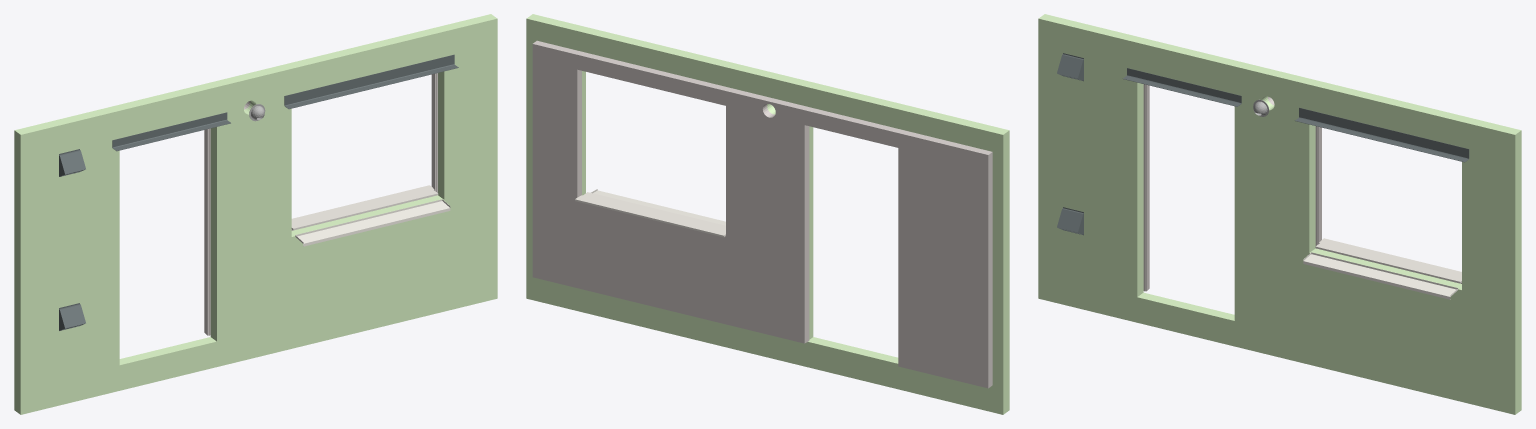
3 views of the same model, side by side, from view 1: azimuth 30°, elevation 25°; view 2: azimuth 150°, elevation 25°; view 3: azimuth 330°, elevation 25° (orthographic).
Parts seen in each view (by area): view 1: [8691881]21_isolatie 131mm, [8691899]Merk B_L18 90x116x3mm, [8691879]21_prefab betonwand 90mm, [8691901]Merk B_Waterslag, [8691902]Merk B_Ventserbank, [8691900]Merk A_L8 90x90x3mm, [8691903]57_Muurdoorvoer WTW, [8691904]57_Muurdoorvoer WTW; view 2: [8691879]21_prefab betonwand 90mm, [8691881]21_isolatie 131mm, [8691902]Merk B_Ventserbank, [8691901]Merk B_Waterslag; view 3: [8691881]21_isolatie 131mm, [8691899]Merk B_L18 90x116x3mm, [8691879]21_prefab betonwand 90mm, [8691901]Merk B_Waterslag, [8691902]Merk B_Ventserbank, [8691900]Merk A_L8 90x90x3mm, [8691904]57_Muurdoorvoer WTW, [8691903]57_Muurdoorvoer WTW.
Part boxes in pixels (x1=…): [8691881]21_isolatie 131mm: x1=14, y1=14, x2=497, y2=414; [8691899]Merk B_L18 90x116x3mm: x1=284, y1=54, x2=458, y2=109; [8691879]21_prefab betonwand 90mm: x1=204, y1=73, x2=437, y2=335; [8691901]Merk B_Waterslag: x1=295, y1=199, x2=450, y2=246; [8691902]Merk B_Ventserbank: x1=291, y1=185, x2=438, y2=230; [8691900]Merk A_L8 90x90x3mm: x1=112, y1=112, x2=230, y2=151; [8691903]57_Muurdoorvoer WTW: x1=59, y1=303, x2=85, y2=330; [8691904]57_Muurdoorvoer WTW: x1=59, y1=149, x2=85, y2=176; [8691879]21_prefab betonwand 90mm: x1=532, y1=40, x2=992, y2=388; [8691881]21_isolatie 131mm: x1=526, y1=14, x2=1009, y2=414; [8691902]Merk B_Ventserbank: x1=575, y1=192, x2=725, y2=237; [8691901]Merk B_Waterslag: x1=591, y1=189, x2=725, y2=225; [8691881]21_isolatie 131mm: x1=1038, y1=14, x2=1521, y2=414; [8691899]Merk B_L18 90x116x3mm: x1=1295, y1=107, x2=1469, y2=162; [8691879]21_prefab betonwand 90mm: x1=1143, y1=84, x2=1461, y2=291; [8691901]Merk B_Waterslag: x1=1303, y1=252, x2=1458, y2=299; [8691902]Merk B_Ventserbank: x1=1315, y1=238, x2=1461, y2=283; [8691900]Merk A_L8 90x90x3mm: x1=1123, y1=68, x2=1241, y2=106; [8691904]57_Muurdoorvoer WTW: x1=1057, y1=53, x2=1083, y2=81; [8691903]57_Muurdoorvoer WTW: x1=1057, y1=207, x2=1083, y2=235.
Bounding box in the file's own units: 5.7 × 3.2 × 0.535.
